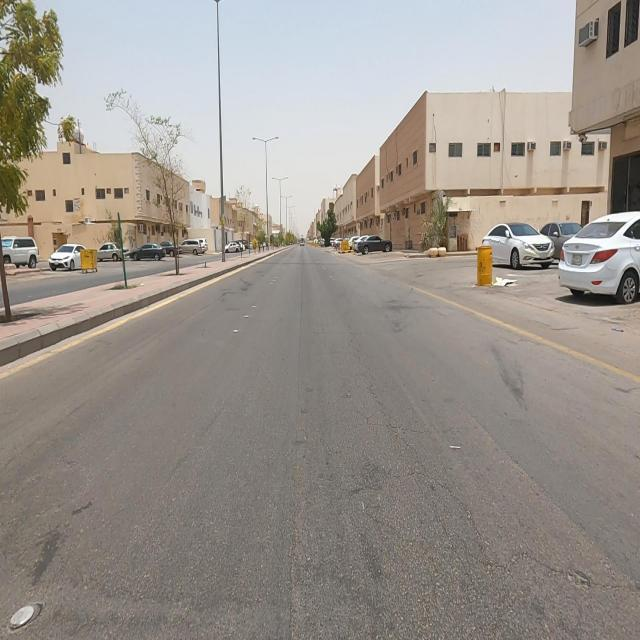debris: (472, 242, 536, 325)
